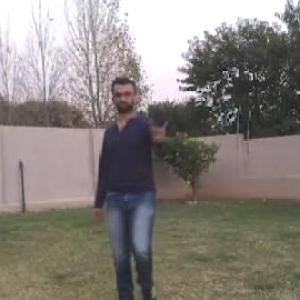takeoff-hand: (148, 111, 174, 147)
